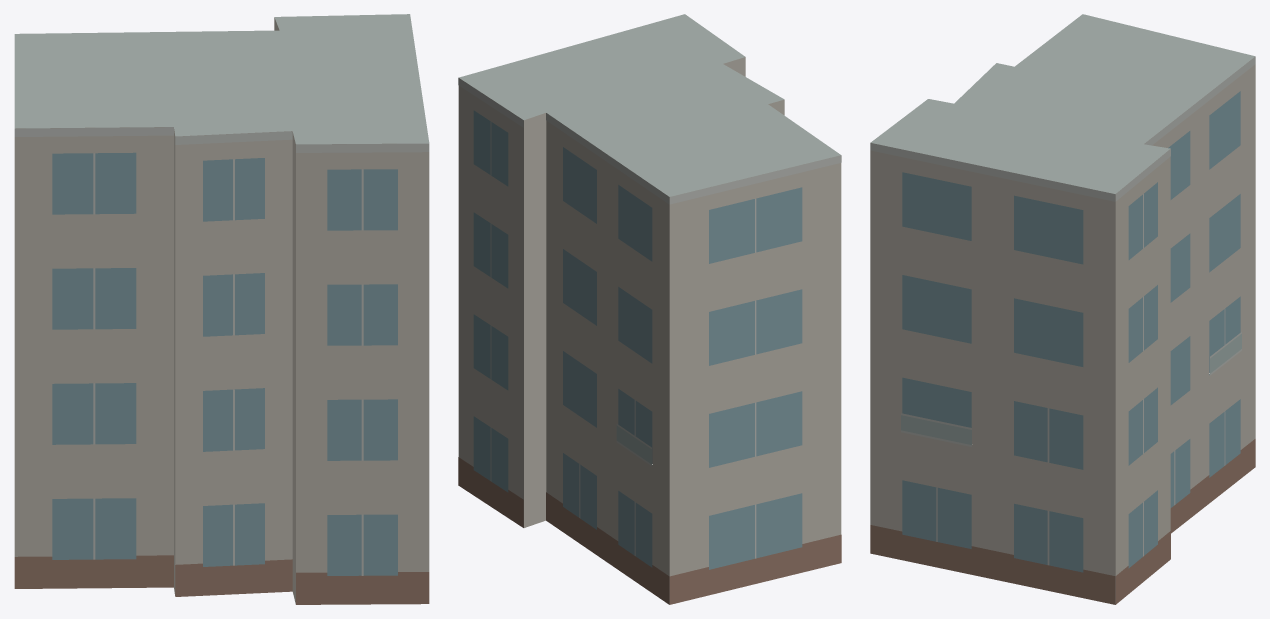
Rendered from survey-upis-32727850.glb.
3 renders of one model, left to right at view 1: azimuth 30°, elevation 25°; view 2: azimuth 150°, elevation 25°; view 3: azimuth 270°, elevation 25°, orthographic. The views are drawn at different scales.
Parts seen in each view (by area): view 1: survey-upis-32727850.tmp; view 2: survey-upis-32727850.tmp; view 3: survey-upis-32727850.tmp.
Part boxes in pixels (x1,y1,x2,y2): survey-upis-32727850.tmp: (14, 14, 429, 604); survey-upis-32727850.tmp: (458, 14, 841, 604); survey-upis-32727850.tmp: (870, 14, 1255, 604).
Size of the model in its own units: 12.24 by 13 by 11.06.
